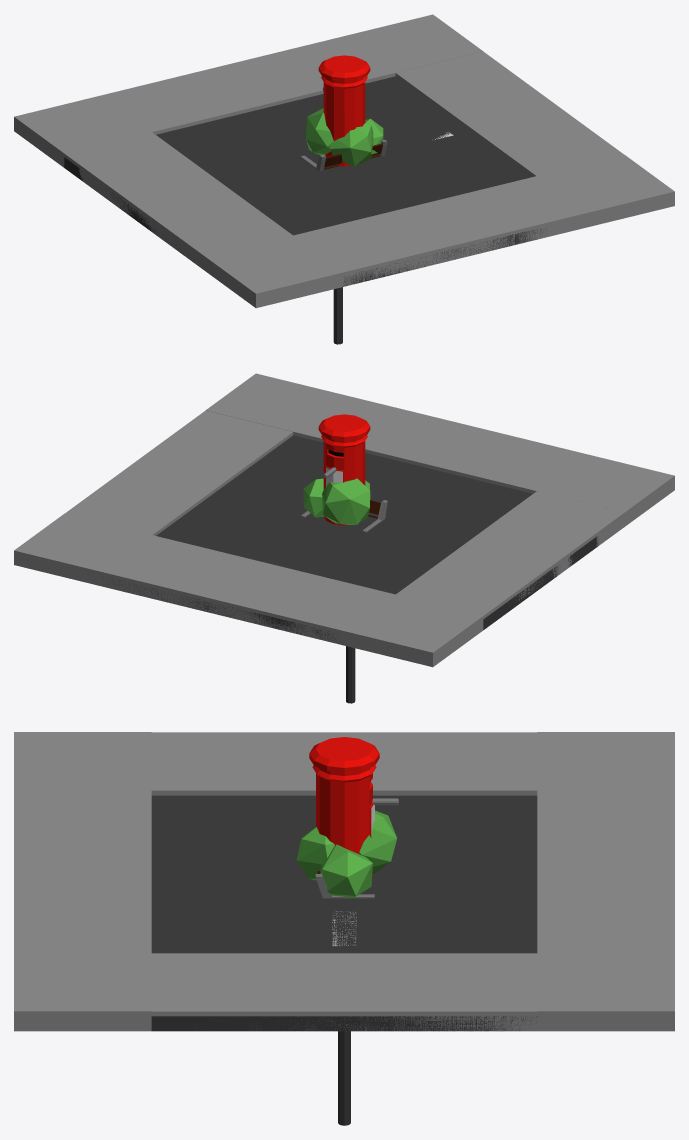
Rendered from Road+Assets.fbx.
The picture shows the model from 3 angles, top to bottom: view 1: azimuth 30°, elevation 25°; view 2: azimuth 150°, elevation 25°; view 3: azimuth 270°, elevation 25°; orthographic projection. The views are drawn at different scales.
Parts seen in each view (by area): view 1: RoadMain, RoadEnd, RoadT, RoadCross, PostBox, Tree, Bench, Traffic Light; view 2: RoadMain, RoadEnd, RoadT, RoadCross, PostBox, Tree, Traffic Light; view 3: RoadMain, RoadEnd, RoadCross, RoadT, PostBox, Tree, Traffic Light.
Boxes of the visible parts, box(x1,y1,x2,y2) form: RoadMain: box(14, 14, 674, 307); RoadEnd: box(133, 51, 674, 307); RoadT: box(14, 78, 511, 307); RoadCross: box(75, 87, 545, 308); PostBox: box(318, 55, 370, 166); Tree: box(306, 108, 383, 166); Bench: box(300, 139, 387, 171); Traffic Light: box(333, 287, 342, 344); RoadMain: box(14, 373, 674, 666); RoadEnd: box(65, 410, 674, 667); RoadT: box(14, 436, 624, 665); RoadCross: box(92, 473, 598, 658); PostBox: box(318, 414, 370, 525); Tree: box(303, 478, 370, 524); Traffic Light: box(346, 646, 355, 703); RoadMain: box(14, 732, 674, 1031); RoadEnd: box(151, 791, 674, 1031); RoadCross: box(14, 795, 674, 1031); RoadT: box(14, 732, 537, 1031); PostBox: box(309, 737, 379, 877); Tree: box(296, 810, 396, 898); Traffic Light: box(338, 1031, 350, 1125).
Bounding box in the file's own units: 8000 × 5051 × 8000.
